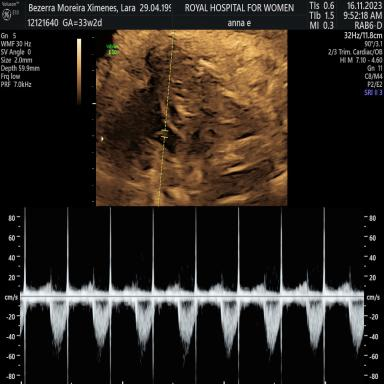Ultrasound-Waves: (28, 208, 363, 384)
